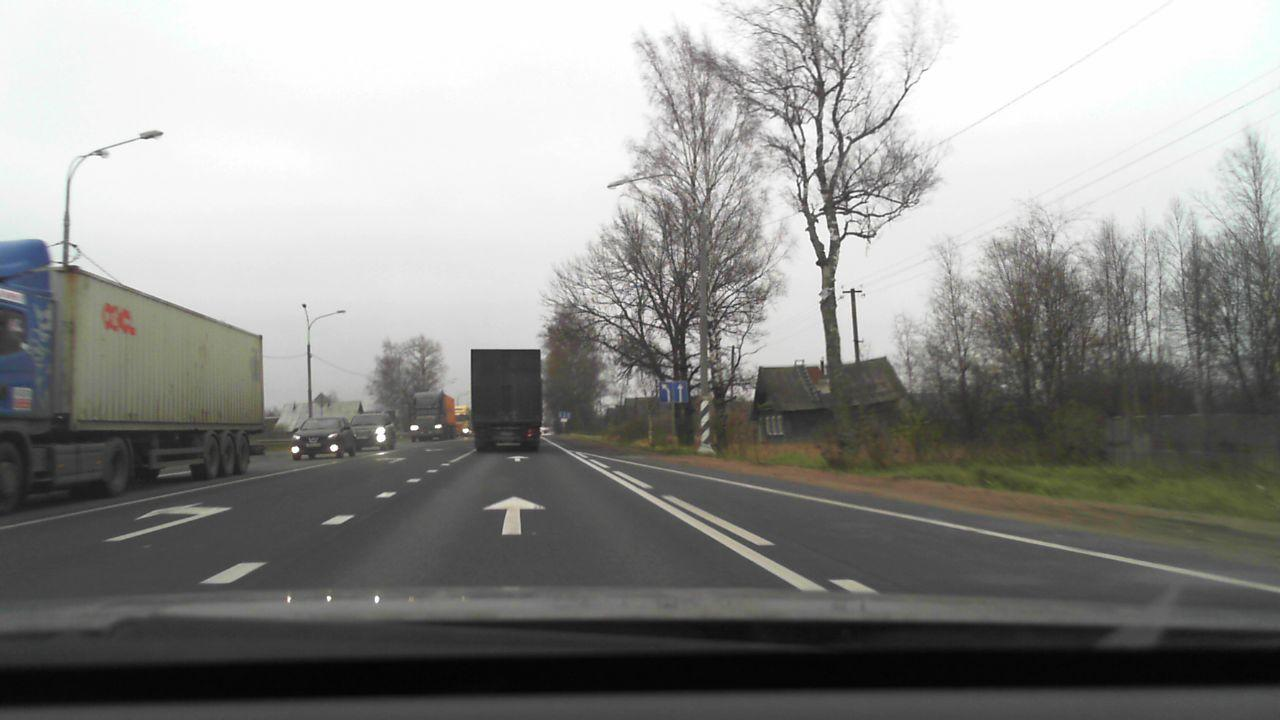5_15_1: (660, 381, 688, 402)
